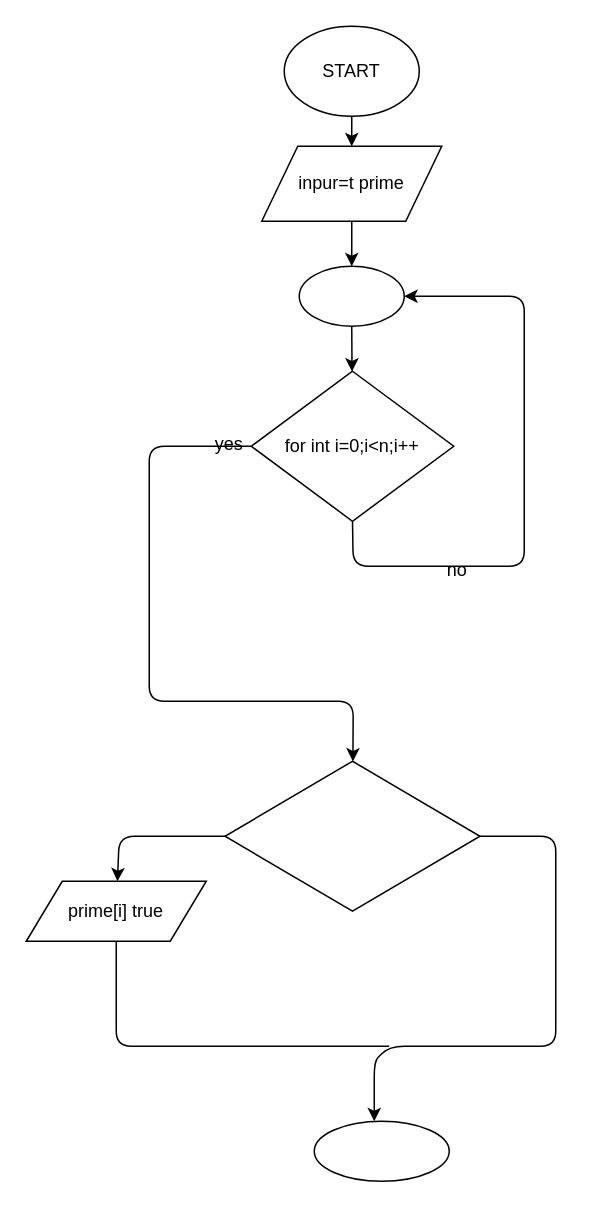
The diagram is 594 pixels wide and 1208 high, and some of its shapes have lost their labels. Here are the shapes that lost their labels. From the top down, the centre of each, then its label:
[351,295]: loop
[352,835]: for int p=2;p*p<=h;p++
